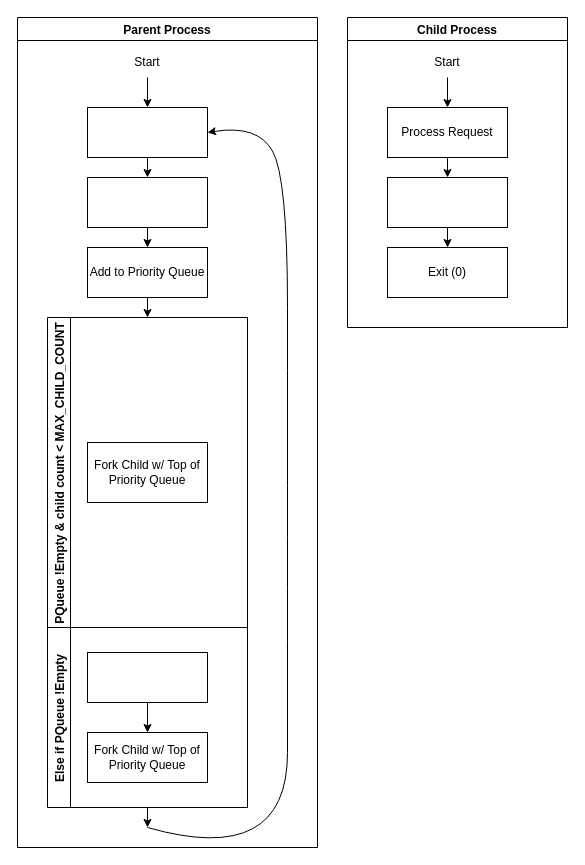
Image size: 585x865. Some labels were removed from this diagram. Here are the shapes that lost their labels. From the top down, the centre of each, then its label:
the point at 147,132: Wait for Message
the point at 147,202: Receive Message
the point at 447,202: Send Message over TCP
the point at 147,677: Wait for a child process to terminate
